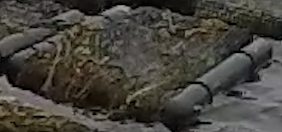bag: (8, 5, 270, 115)
